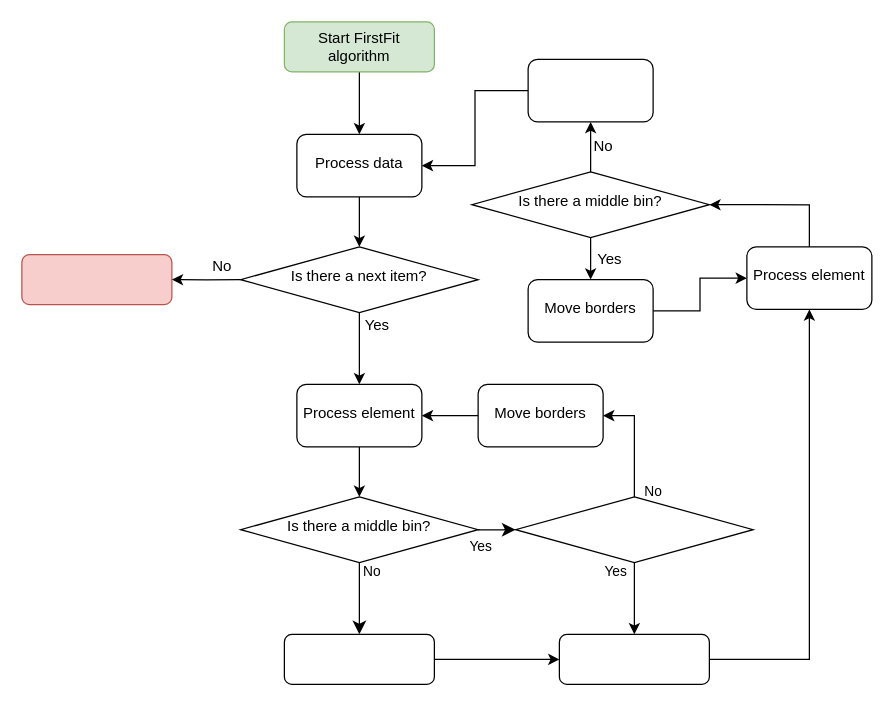
Image size: 894x706. Some labels were removed from this diagram. Here are the shapes that lost their labels. From the top down, the centre of each, then its label:
At point (590, 90): "Put the bin in the middle".
At point (96, 279): "Return used bins".
At point (633, 529): "Can it fit in the bin?".
At point (358, 658): "Open a new bin".
At point (633, 658): "Put the element into the bin".
